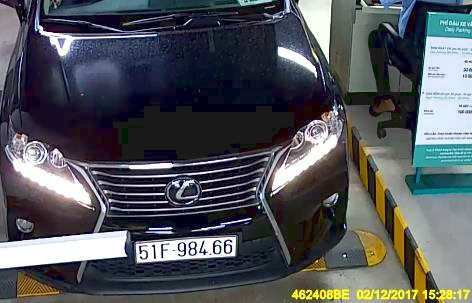plate: (131, 237, 237, 263)
